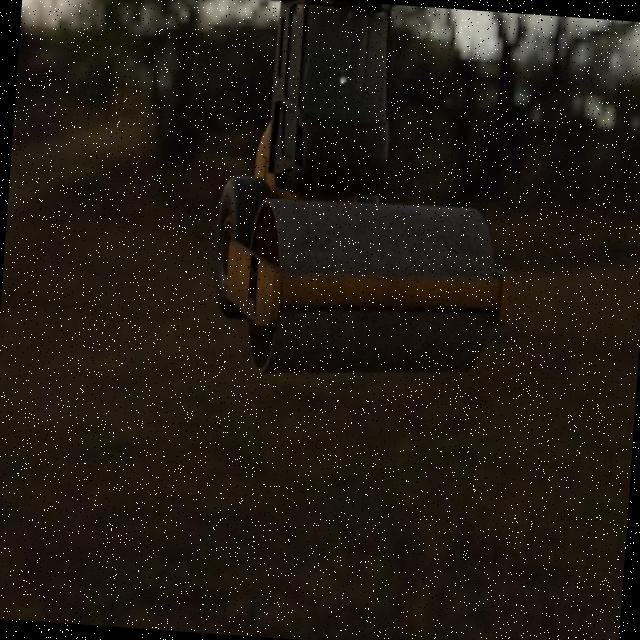Roller: (205, 0, 527, 390)
